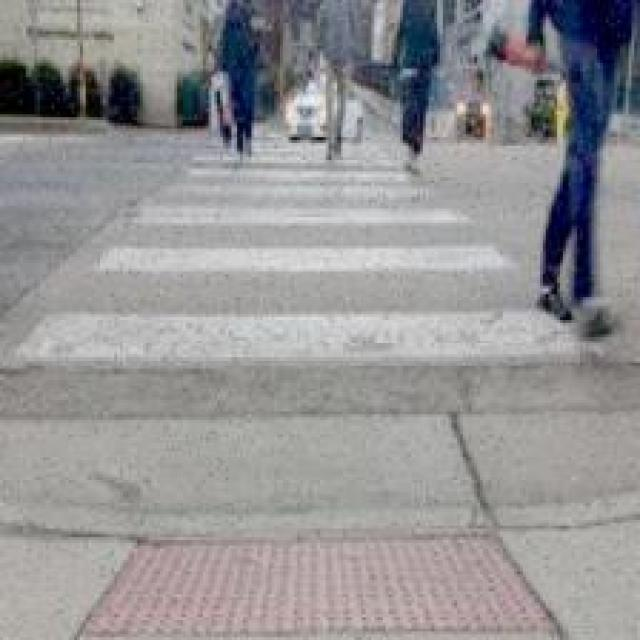crosswalk: (0, 124, 602, 373)
